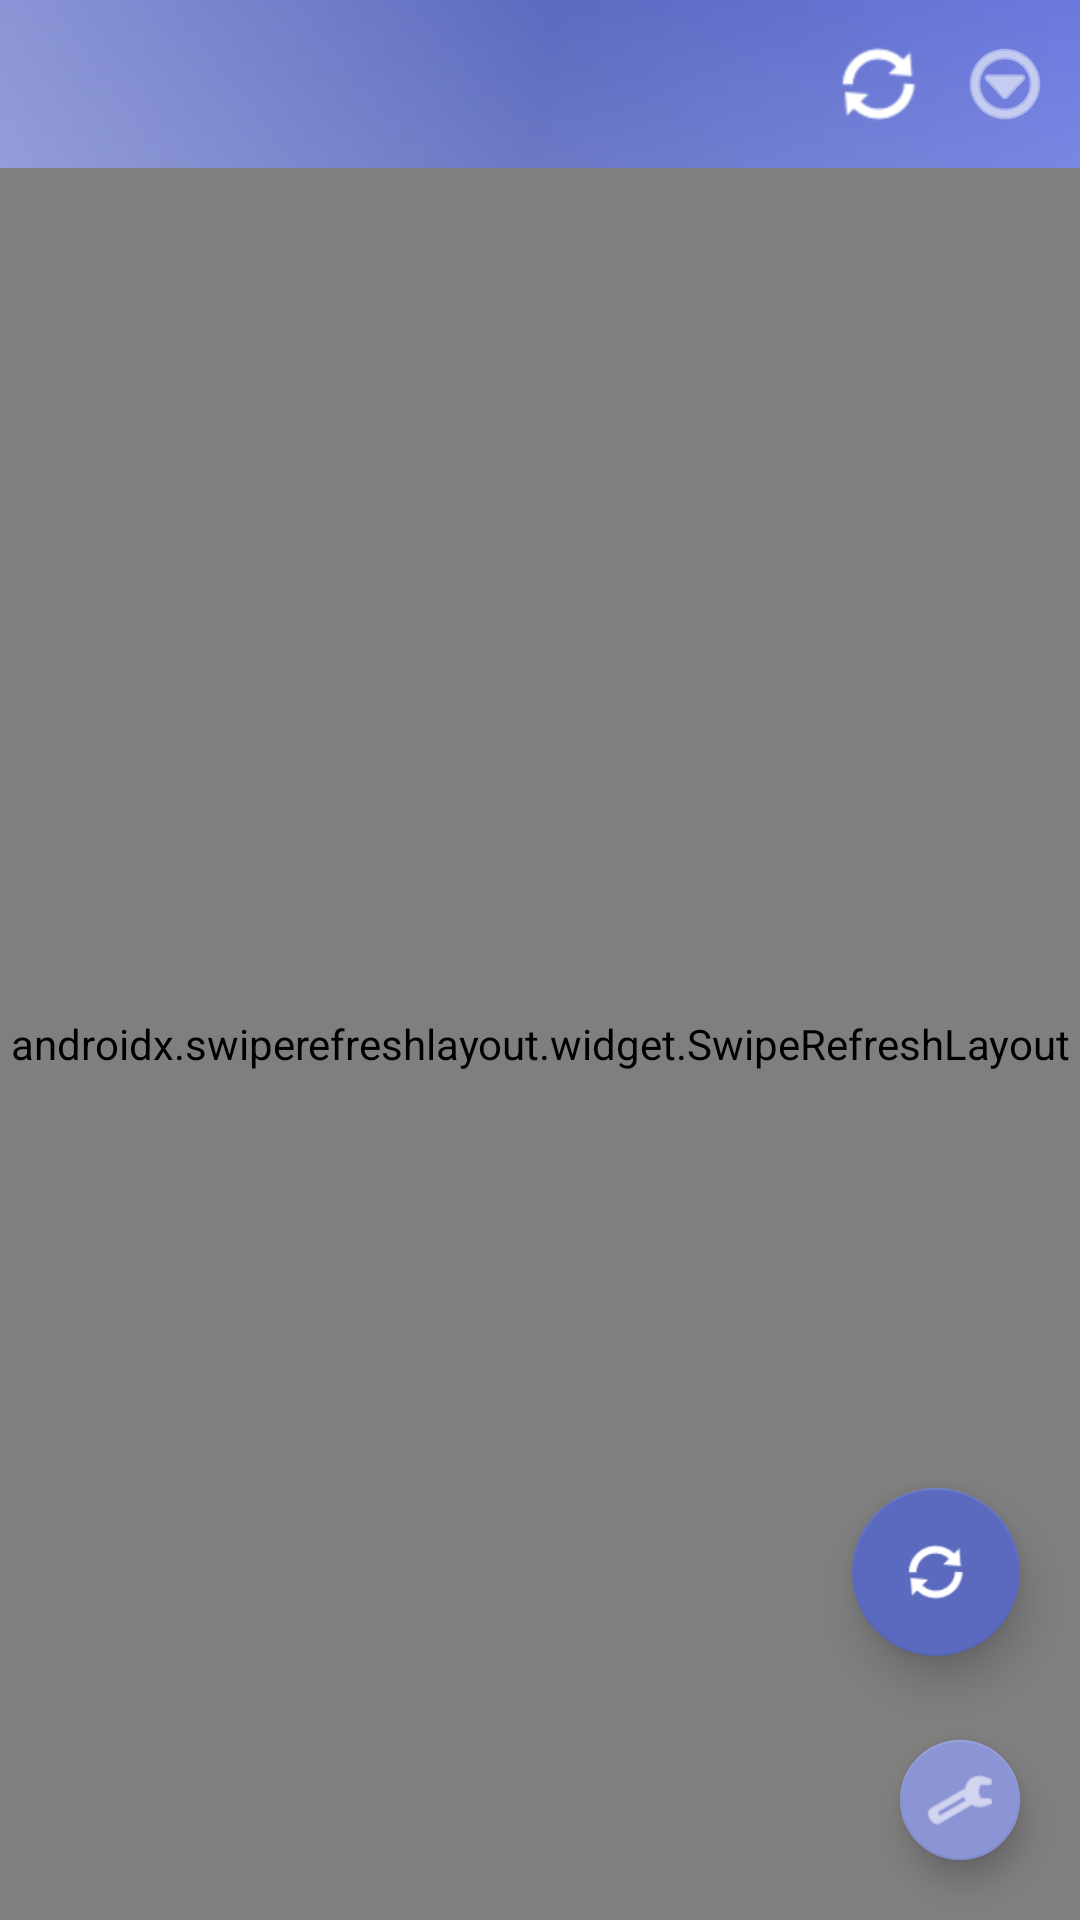

Locate icon controls on the screen. Image size 1080 x 1920, boxes as (x1, y1, x2, y2).
刷新: (842, 48, 916, 120)
刷新位置: (852, 1488, 1020, 1656)
更多: (970, 49, 1040, 120)
设置: (900, 1740, 1020, 1860)
